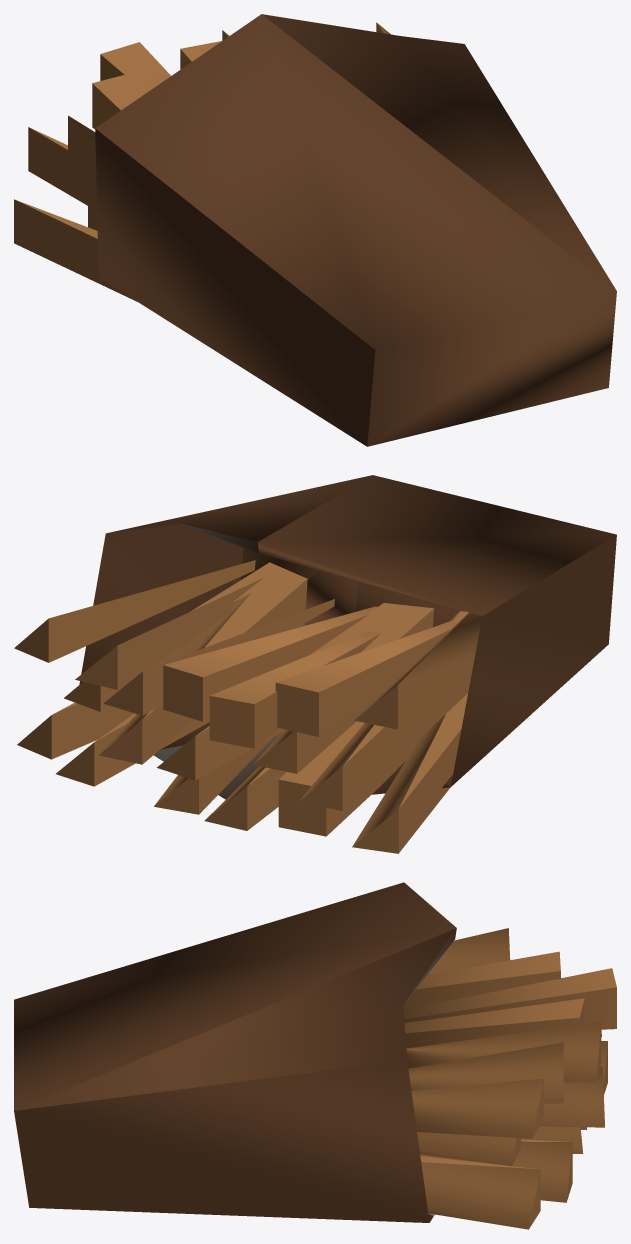
File: cc0-fries-lod1.glb
3 renders of one model, top to bottom at view 1: azimuth 30°, elevation 25°; view 2: azimuth 150°, elevation 25°; view 3: azimuth 270°, elevation 25°, orthographic. The views are drawn at different scales.
Visible parts, largest first — view 1: part_0; view 2: part_0; view 3: part_0.
Part boxes in pixels (bbox=[...]): part_0: bbox=[14, 14, 616, 446]; part_0: bbox=[14, 475, 616, 853]; part_0: bbox=[14, 882, 616, 1229].
Size of the model in its own units: 0.9488 by 0.5684 by 1.33.
